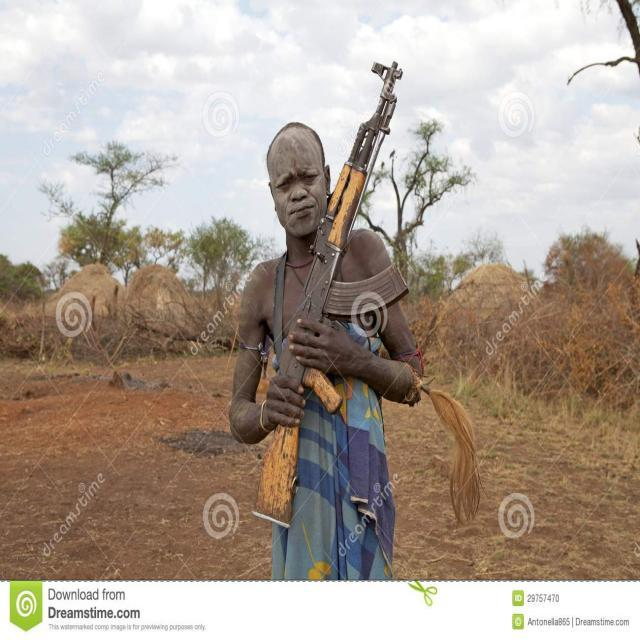weapon: (251, 61, 404, 530)
